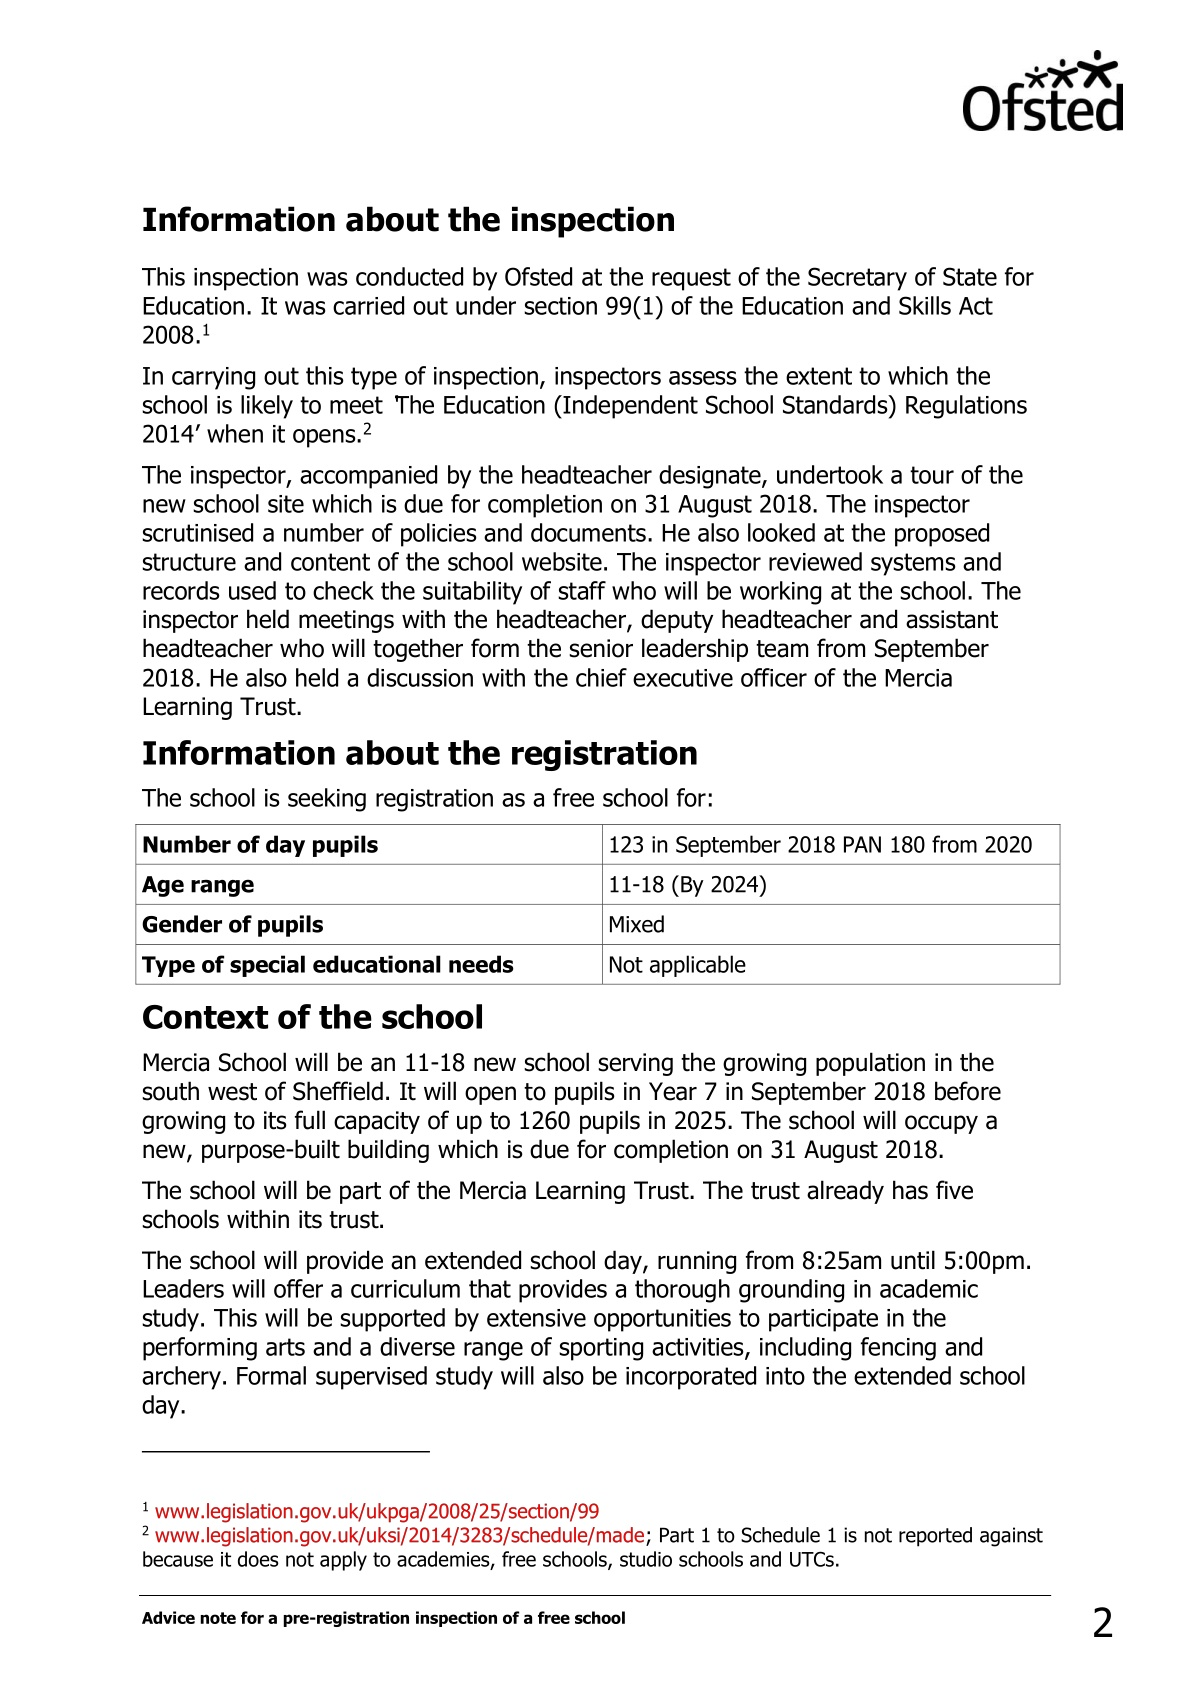full_lined: (135, 823, 1061, 986)
